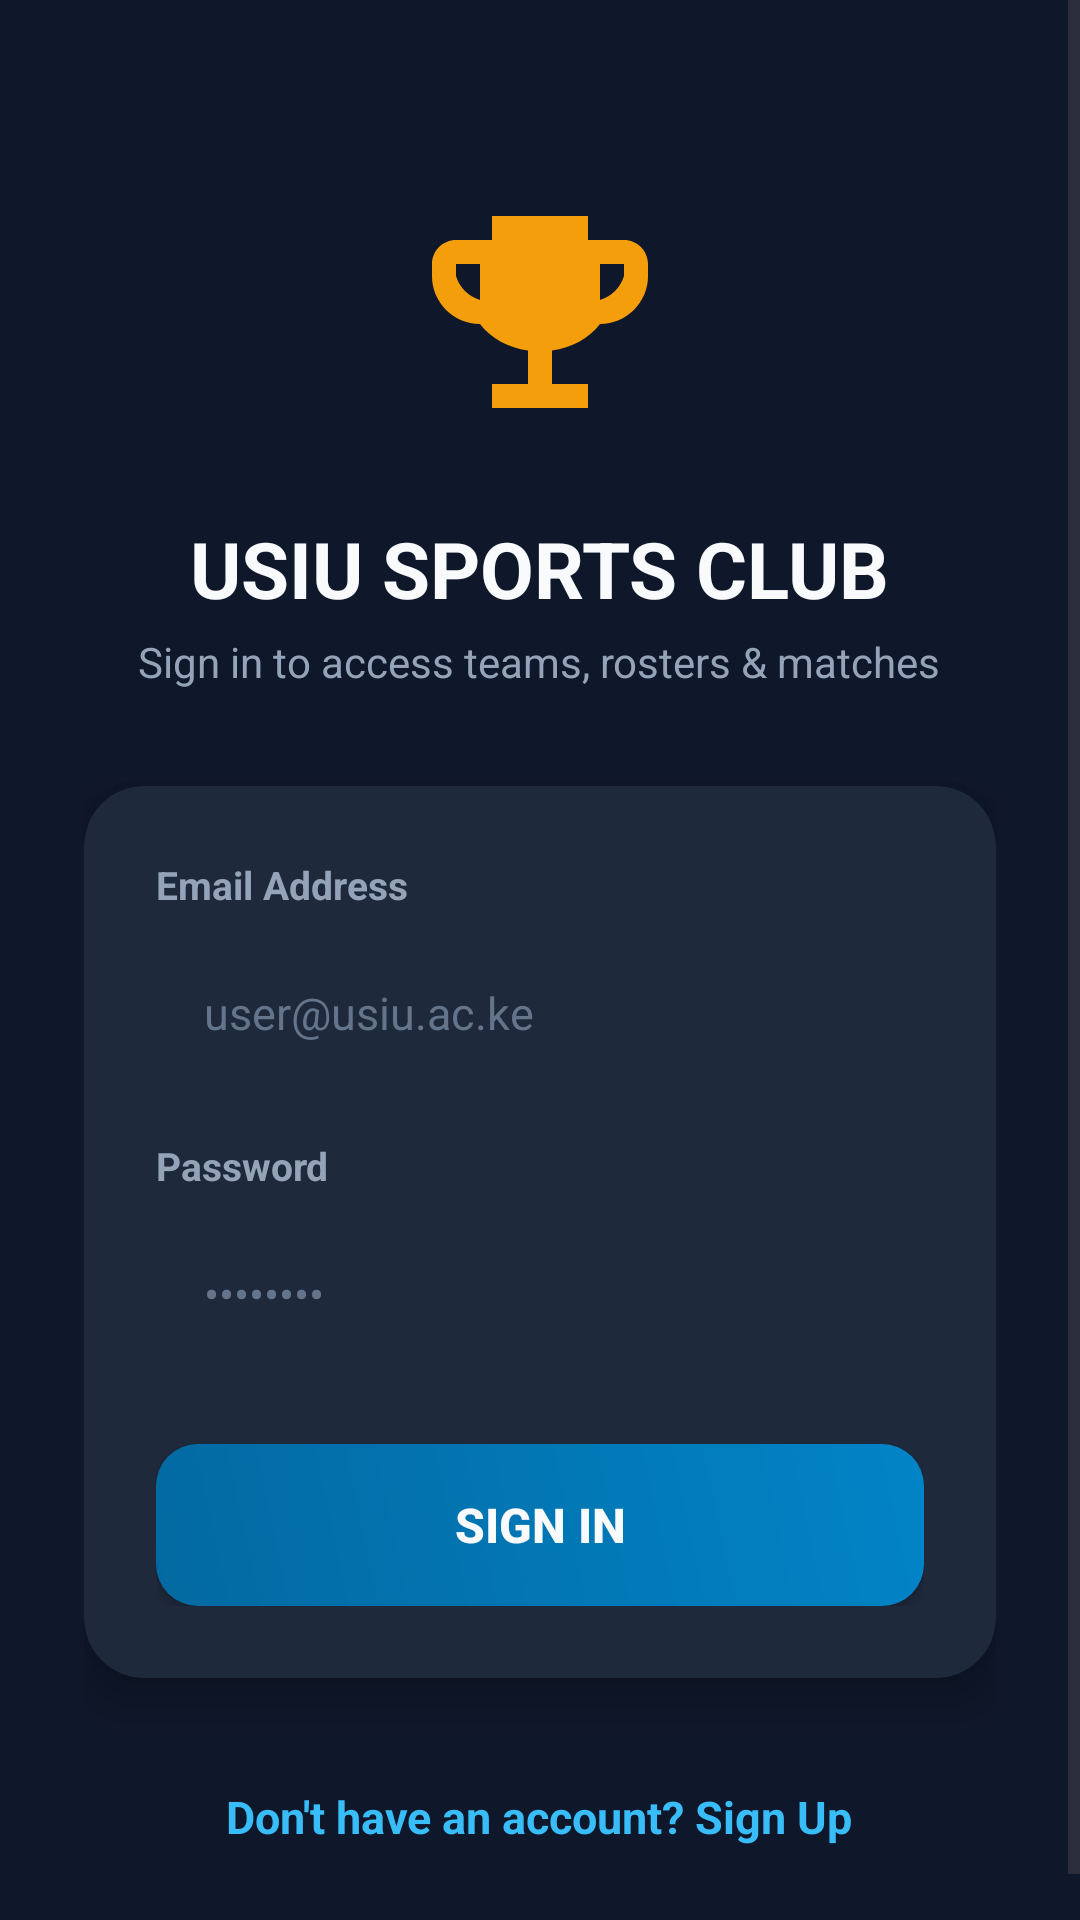

Named icons in this screenshot (1080x1920) and their centers, (x=x, y=y):
trophy: (x=540, y=312)
